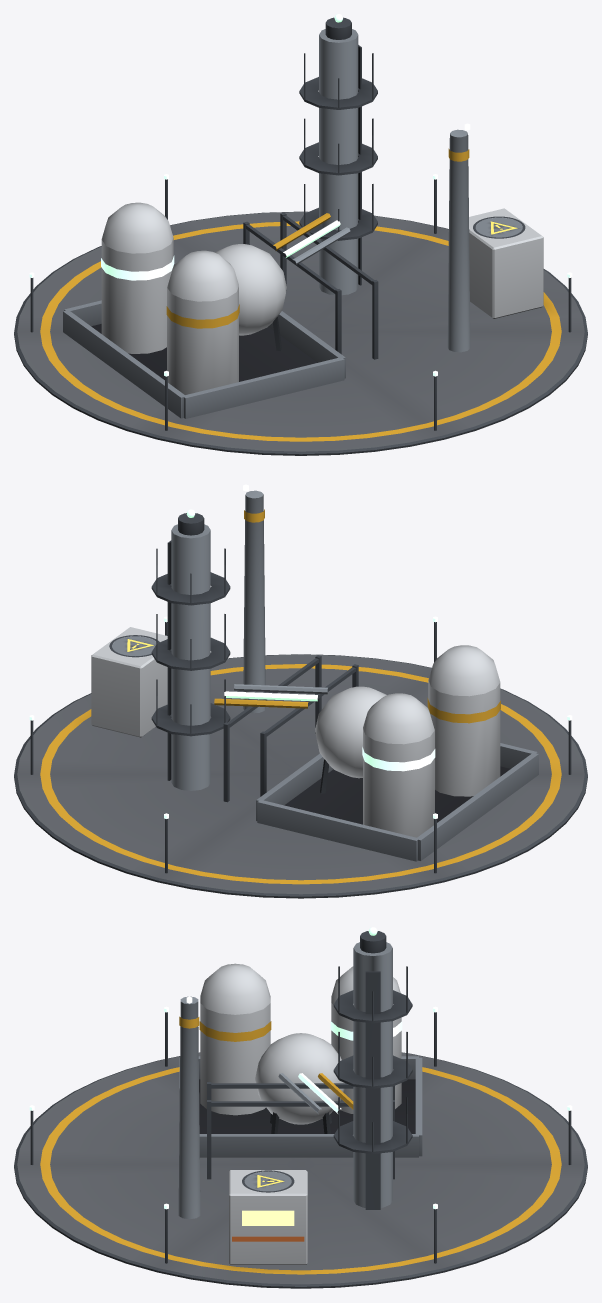
The model's file is chemical_plant.glb.
3 renders of one model, top to bottom at view 1: azimuth 30°, elevation 25°; view 2: azimuth 150°, elevation 25°; view 3: azimuth 270°, elevation 25°, orthographic.
Parts seen in each view (by area): view 1: Base; view 2: Base; view 3: Base, Lights.
Part boxes in pixels (box(x1,y1,x2,y2)): Base: box(14, 17, 587, 455); Base: box(14, 490, 587, 898); Base: box(14, 931, 587, 1288); Lights: box(29, 927, 572, 1225).
Size of the model in its own units: 17.5 by 9.29 by 17.5.
